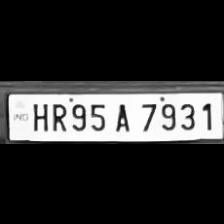1: (196, 98, 216, 130)
3: (178, 99, 196, 131)
5: (87, 98, 109, 132)
7: (134, 98, 156, 132)
9: (68, 99, 86, 131), (158, 99, 176, 131)
A: (110, 98, 132, 132)
H: (28, 99, 48, 131)
R: (47, 99, 66, 131)
